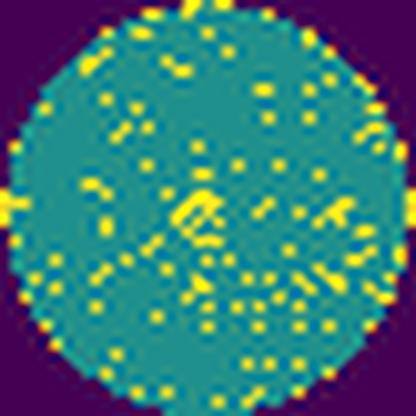Center: (162, 183, 232, 252)
